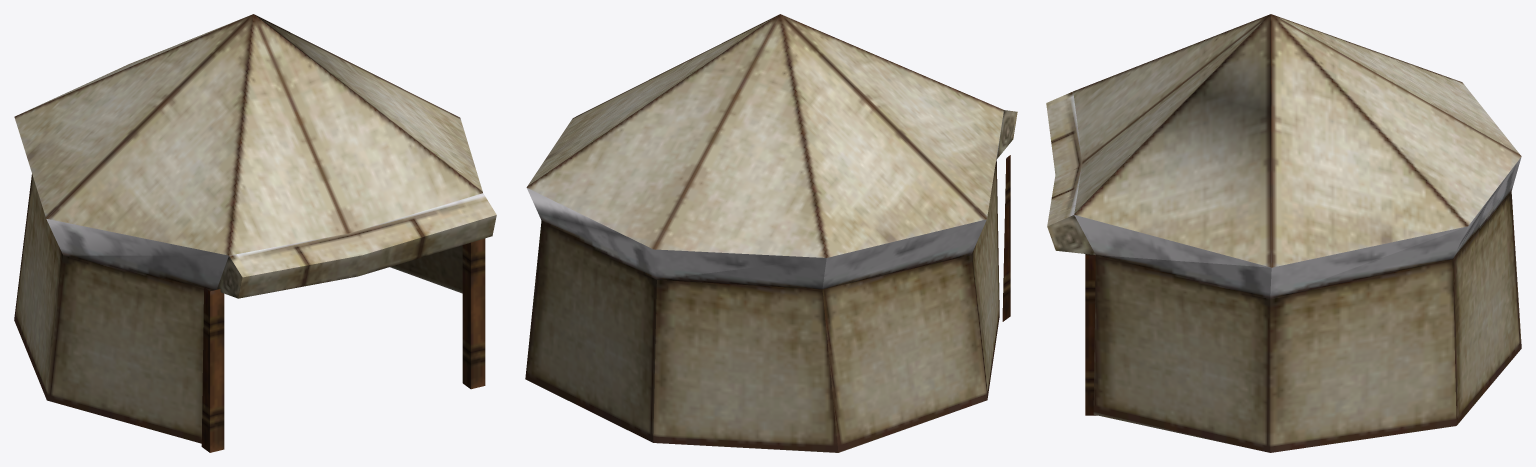
File: nsm-general_obj_03.glb
3 views of the same model, side by side, from view 1: azimuth 30°, elevation 25°; view 2: azimuth 150°, elevation 25°; view 3: azimuth 270°, elevation 25° (orthographic).
Visible parts, largest first — view 1: Mesh02; view 2: Mesh02; view 3: Mesh02.
Boxes of the visible parts, x1,y1,x2,y2 form: Mesh02: (14, 14, 496, 452); Mesh02: (525, 14, 1017, 452); Mesh02: (1046, 14, 1521, 452).
Bounding box in the file's own units: 6.72 × 5.1 × 6.56.
Materials: 1 (1 with a texture image).
